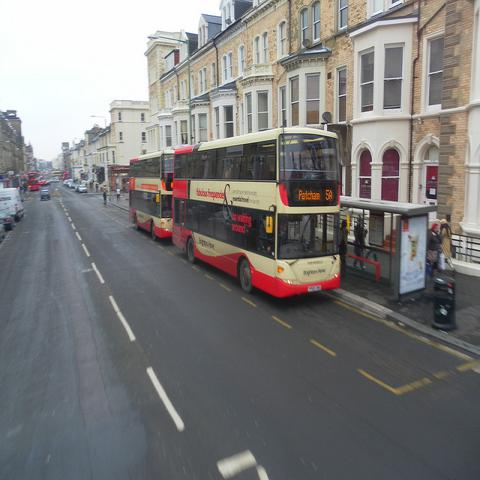bus: (172, 126, 341, 300), (128, 150, 178, 240), (28, 172, 39, 190), (62, 171, 68, 180)
car: (0, 188, 25, 224), (0, 206, 15, 234), (0, 224, 6, 243), (40, 190, 50, 201), (47, 176, 59, 183), (78, 184, 87, 193), (70, 183, 77, 188)
truck: (0, 188, 24, 231), (41, 181, 51, 201)
